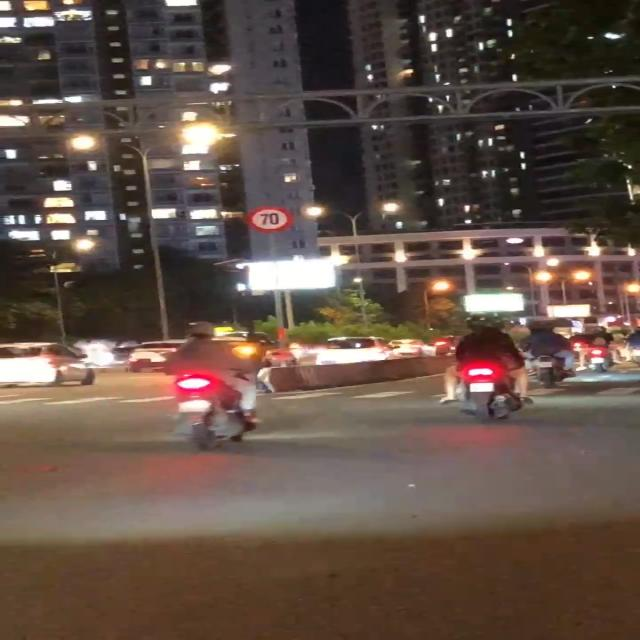Bien bao toc do toi da cho phep: (237, 202, 300, 234)
